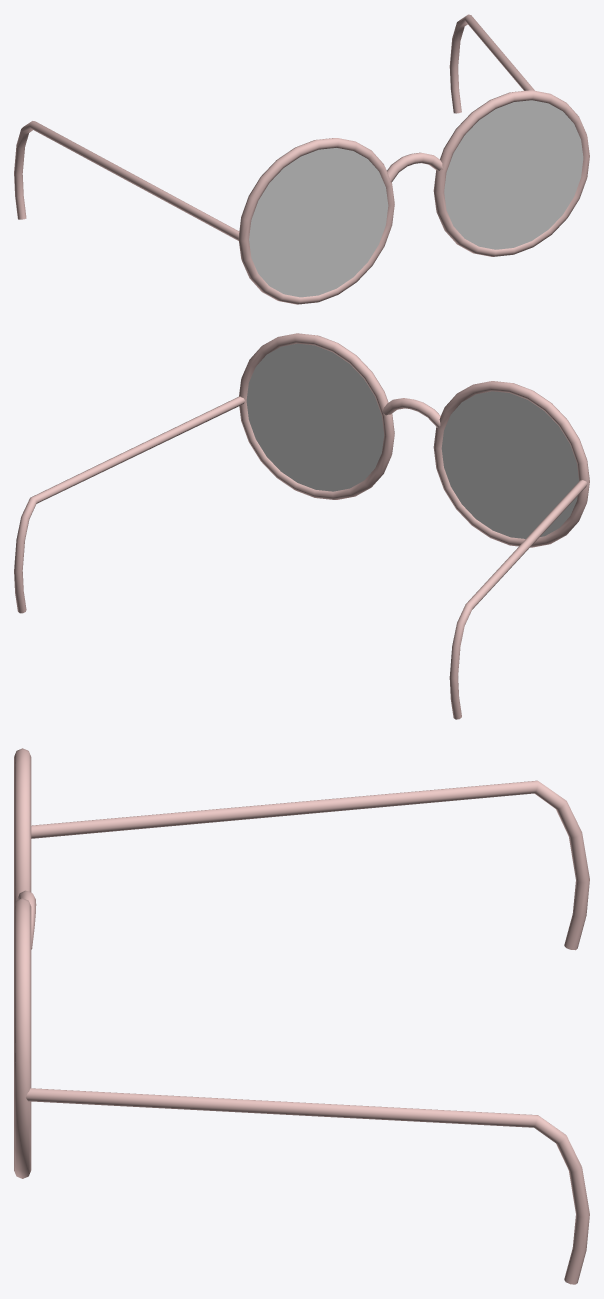
The model's file is Glasses.glb.
The picture shows the model from 3 angles, top to bottom: view 1: azimuth 30°, elevation 25°; view 2: azimuth 150°, elevation 25°; view 3: azimuth 270°, elevation 25°; orthographic projection. The views are drawn at different scales.
Parts seen in each view (by area): view 1: Circle.009; view 2: Circle.009; view 3: Circle.009.
Boxes of the visible parts, x1,y1,x2,y2 form: Circle.009: [14, 14, 589, 304]; Circle.009: [14, 333, 589, 719]; Circle.009: [14, 748, 589, 1284].
Size of the model in its own units: 0.2235 by 0.0857 by 0.1599.
